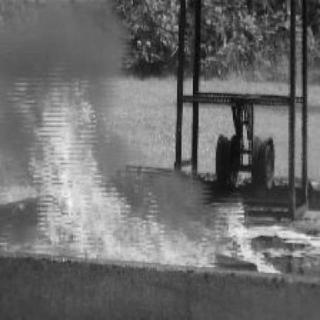Fire: (9, 68, 282, 274)
Smoke: (0, 2, 122, 70)
